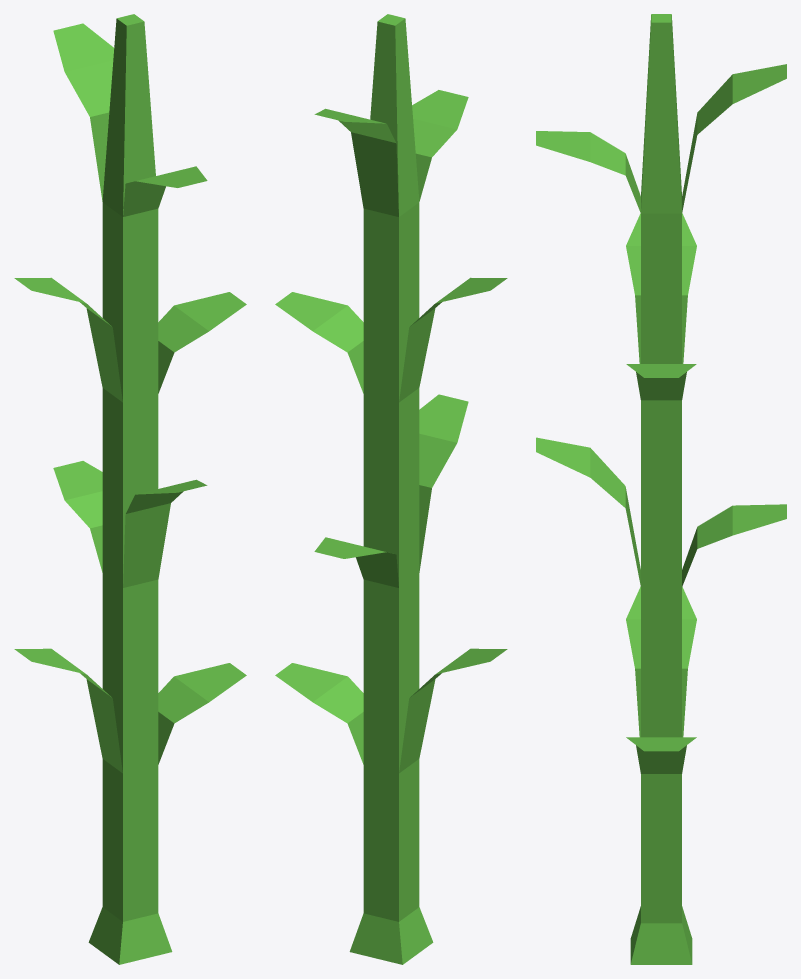
Rendered from crops_cornStageC.glb.
3 views of the same model, side by side, from view 1: azimuth 30°, elevation 25°; view 2: azimuth 150°, elevation 25°; view 3: azimuth 270°, elevation 25° (orthographic).
Visible parts, largest first — view 1: crops_cornStageC; view 2: crops_cornStageC; view 3: crops_cornStageC.
Part boxes in pixels (<box>): crops_cornStageC: <box>14,14,246,964</box>; crops_cornStageC: <box>275,14,507,964</box>; crops_cornStageC: <box>536,14,786,964</box>.
Bounding box in the file's own units: 0.3042 × 1.25 × 0.3042.
